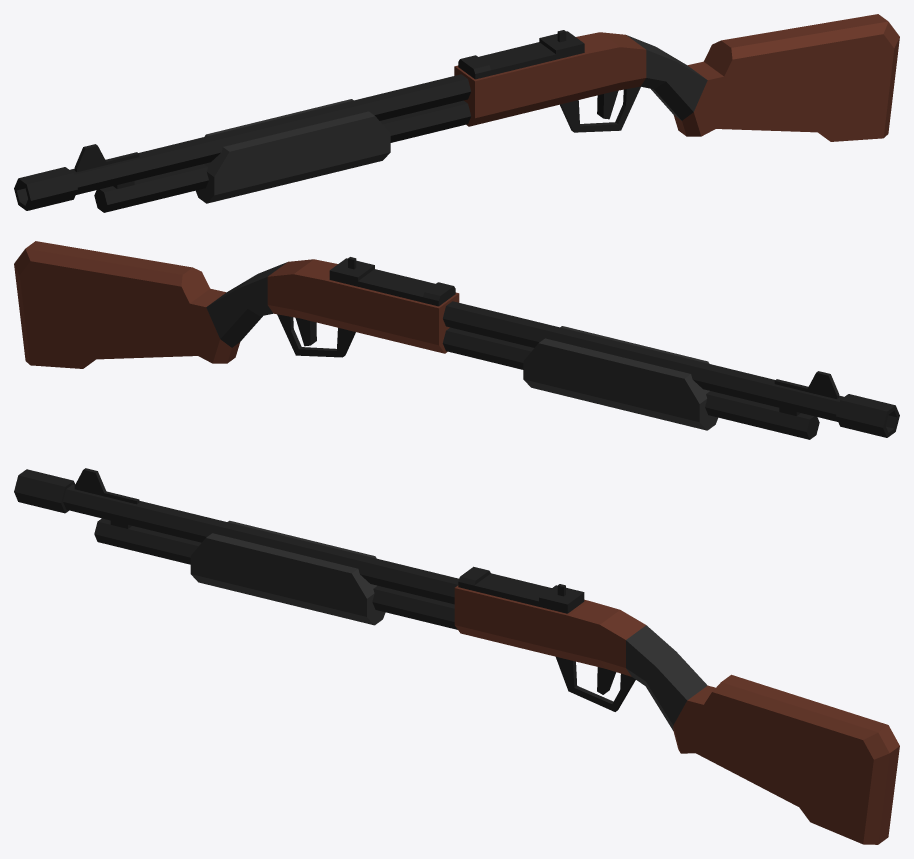
Rendered from remington870.fbx.
3 views of the same model, one above another, from view 1: azimuth 30°, elevation 25°; view 2: azimuth 150°, elevation 25°; view 3: azimuth 330°, elevation 25° (orthographic).
Parts seen in each view (by area): view 1: Plane.003, Cylinder.003, Plane.004, sight_rear.005, Cube.009, sight_front.005, trigger.004; view 2: Plane.003, Cylinder.003, Plane.004, sight_rear.005, Cube.009, sight_front.005, trigger.004; view 3: Plane.003, Cylinder.003, Plane.004, sight_rear.005, Cube.009, sight_front.005.
Part boxes in pixels (x1,y1,x2,y2): Plane.003: (454,14,899,141); Cylinder.003: (14,74,471,212); Plane.004: (196,99,390,203); sight_rear.005: (458,30,584,79); Cube.009: (560,86,640,132); sight_front.005: (74,144,139,172); trigger.004: (597,90,618,119); Plane.003: (14,241,459,368); Cylinder.003: (442,301,899,439); Plane.004: (523,326,717,430); sight_rear.005: (329,257,455,306); Cube.009: (277,314,355,357); sight_front.005: (774,371,839,399); trigger.004: (295,317,316,346); Plane.003: (454,585,899,844); Cylinder.003: (14,469,458,629); Plane.004: (190,520,385,625); sight_rear.005: (458,566,584,613); Cube.009: (556,657,635,711); sight_front.005: (74,468,139,504).
Size of the model in its own units: 44.44 by 184 by 946.
